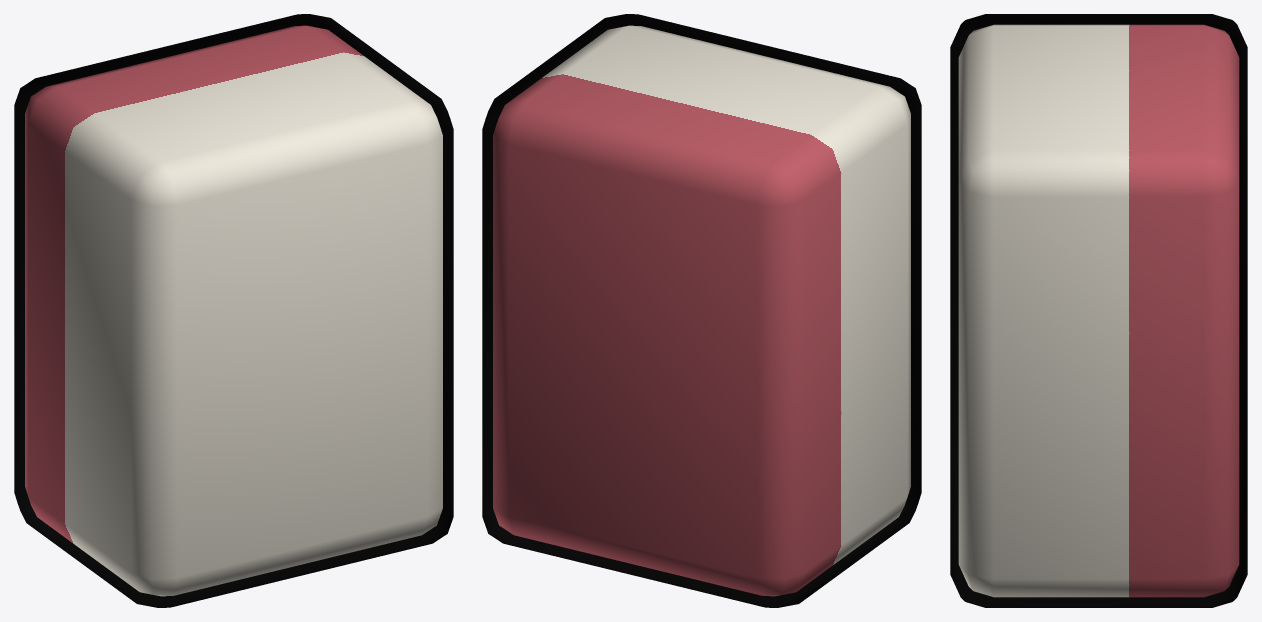
File: tile.glb
3 renders of one model, left to right at view 1: azimuth 30°, elevation 25°; view 2: azimuth 150°, elevation 25°; view 3: azimuth 270°, elevation 25°, orthographic. The views are drawn at different scales.
Visible parts, largest first — view 1: Tile; view 2: Tile; view 3: Tile.
Part boxes in pixels (box(x1,y1,x2,y2)): Tile: box(14, 14, 453, 607); Tile: box(482, 14, 921, 607); Tile: box(950, 14, 1247, 607).
Bounding box in the file's own units: 0.0272 × 0.0362 × 0.0212.
Materials: 1 (1 with a texture image).
